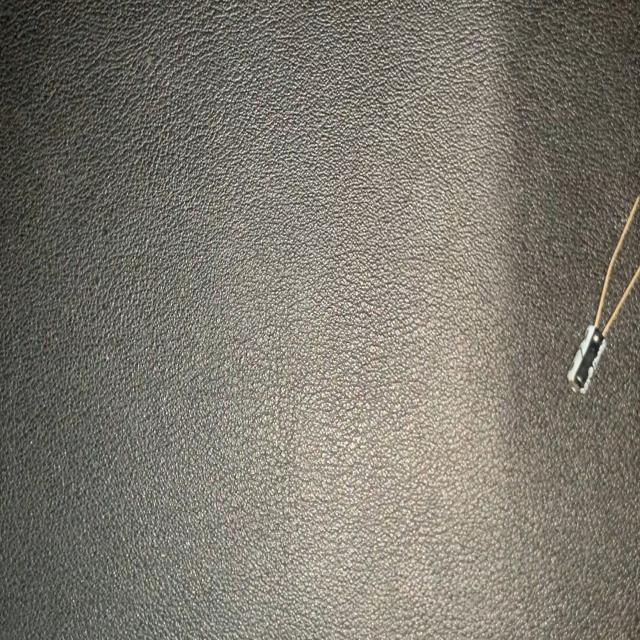capacitor: (563, 185, 640, 399)
